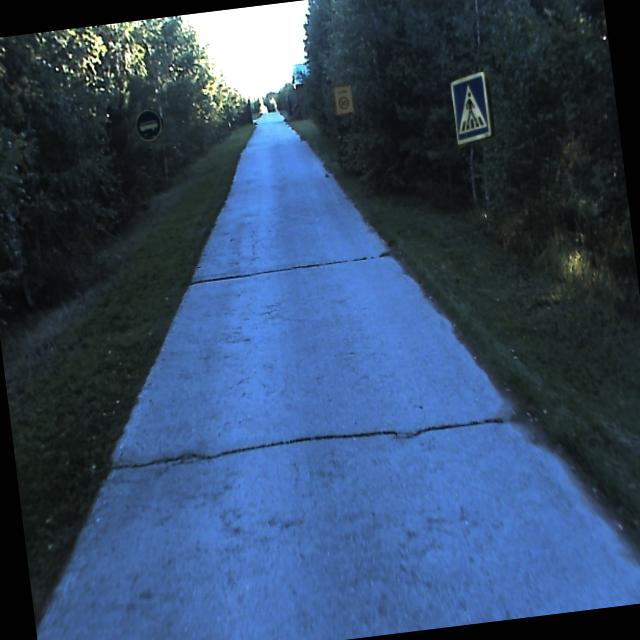road: (36, 112, 640, 640)
